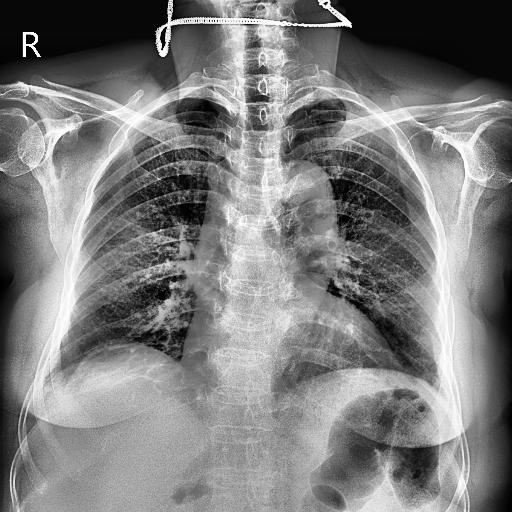0- Aortic enlargement: (259, 158, 339, 266), (264, 161, 342, 250), (274, 159, 342, 237)
10- Pleural effusion: (30, 359, 49, 407)
11- Pleural thickening: (30, 359, 49, 407), (428, 332, 446, 382)
3- Cardiomegaly: (176, 324, 403, 390), (174, 343, 404, 404), (176, 339, 405, 389)
9- Other lesion: (61, 338, 142, 377)
